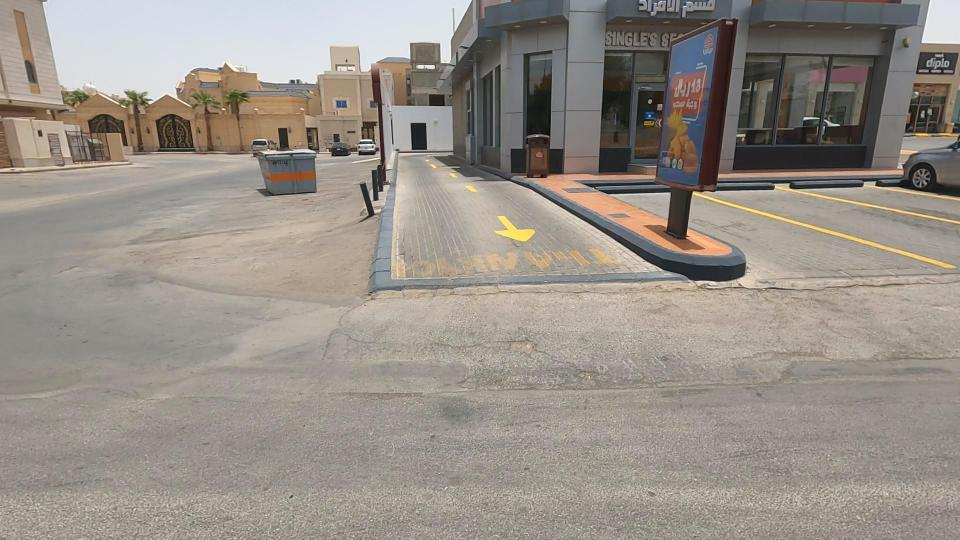POTHOLES: (388, 299, 679, 428), (273, 338, 500, 447), (721, 324, 844, 412)
